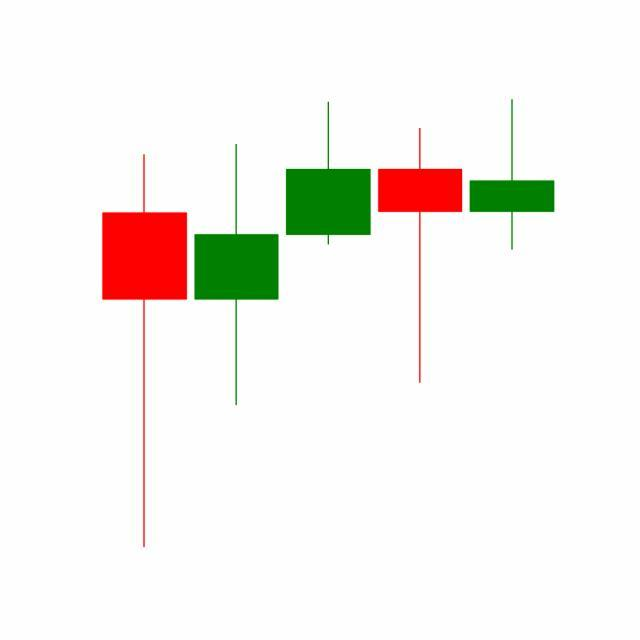Spinning Top: (466, 98, 559, 252)
